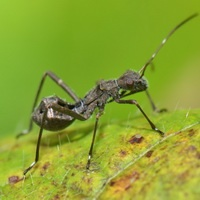insect: (9, 13, 197, 182), (35, 75, 75, 108)
